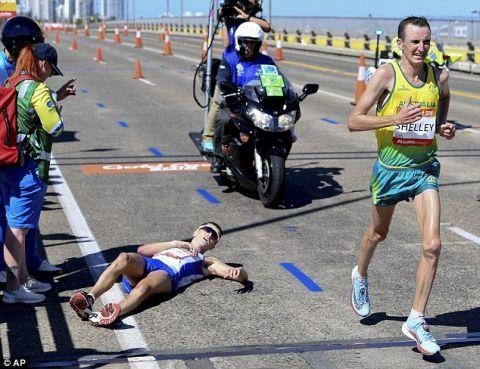falling: (60, 207, 259, 331)
